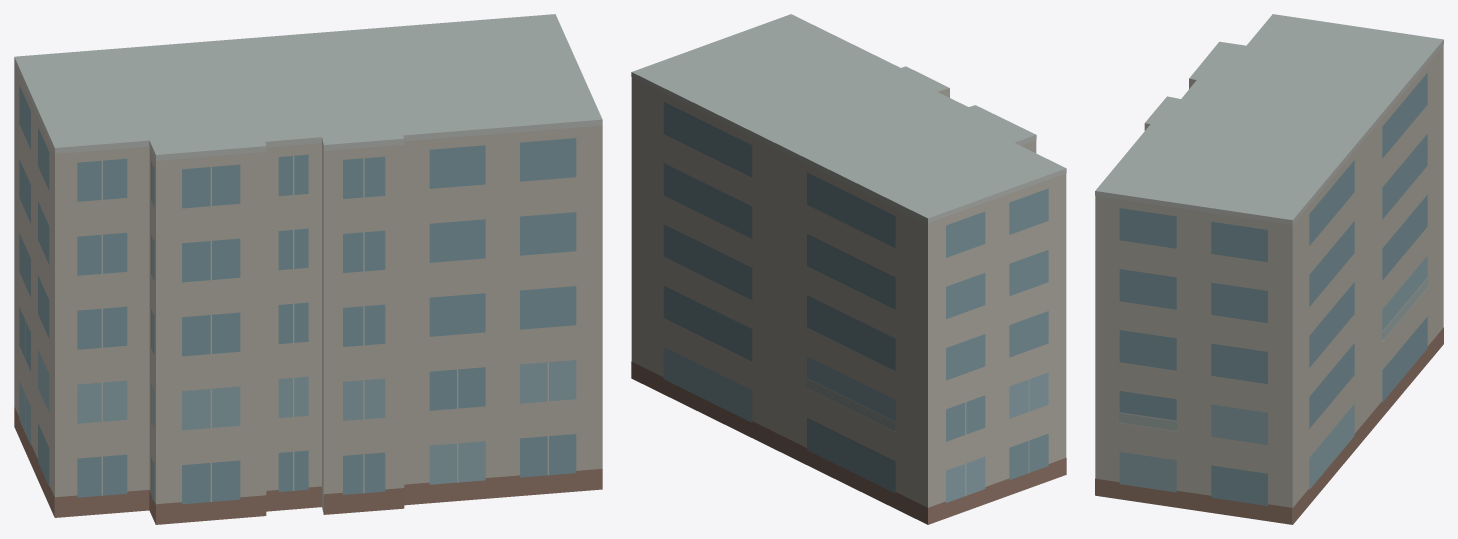
File: survey-upis-32752341.glb
3 renders of one model, left to right at view 1: azimuth 30°, elevation 25°; view 2: azimuth 150°, elevation 25°; view 3: azimuth 270°, elevation 25°, orthographic. The views are drawn at different scales.
Parts seen in each view (by area): view 1: survey-upis-32752341.tmp; view 2: survey-upis-32752341.tmp; view 3: survey-upis-32752341.tmp.
Part boxes in pixels (x1,y1,x2,y2): survey-upis-32752341.tmp: [14, 14, 602, 524]; survey-upis-32752341.tmp: [631, 14, 1066, 524]; survey-upis-32752341.tmp: [1095, 14, 1443, 524].
Bounding box in the file's own units: 22.14 × 15.25 × 15.82.
